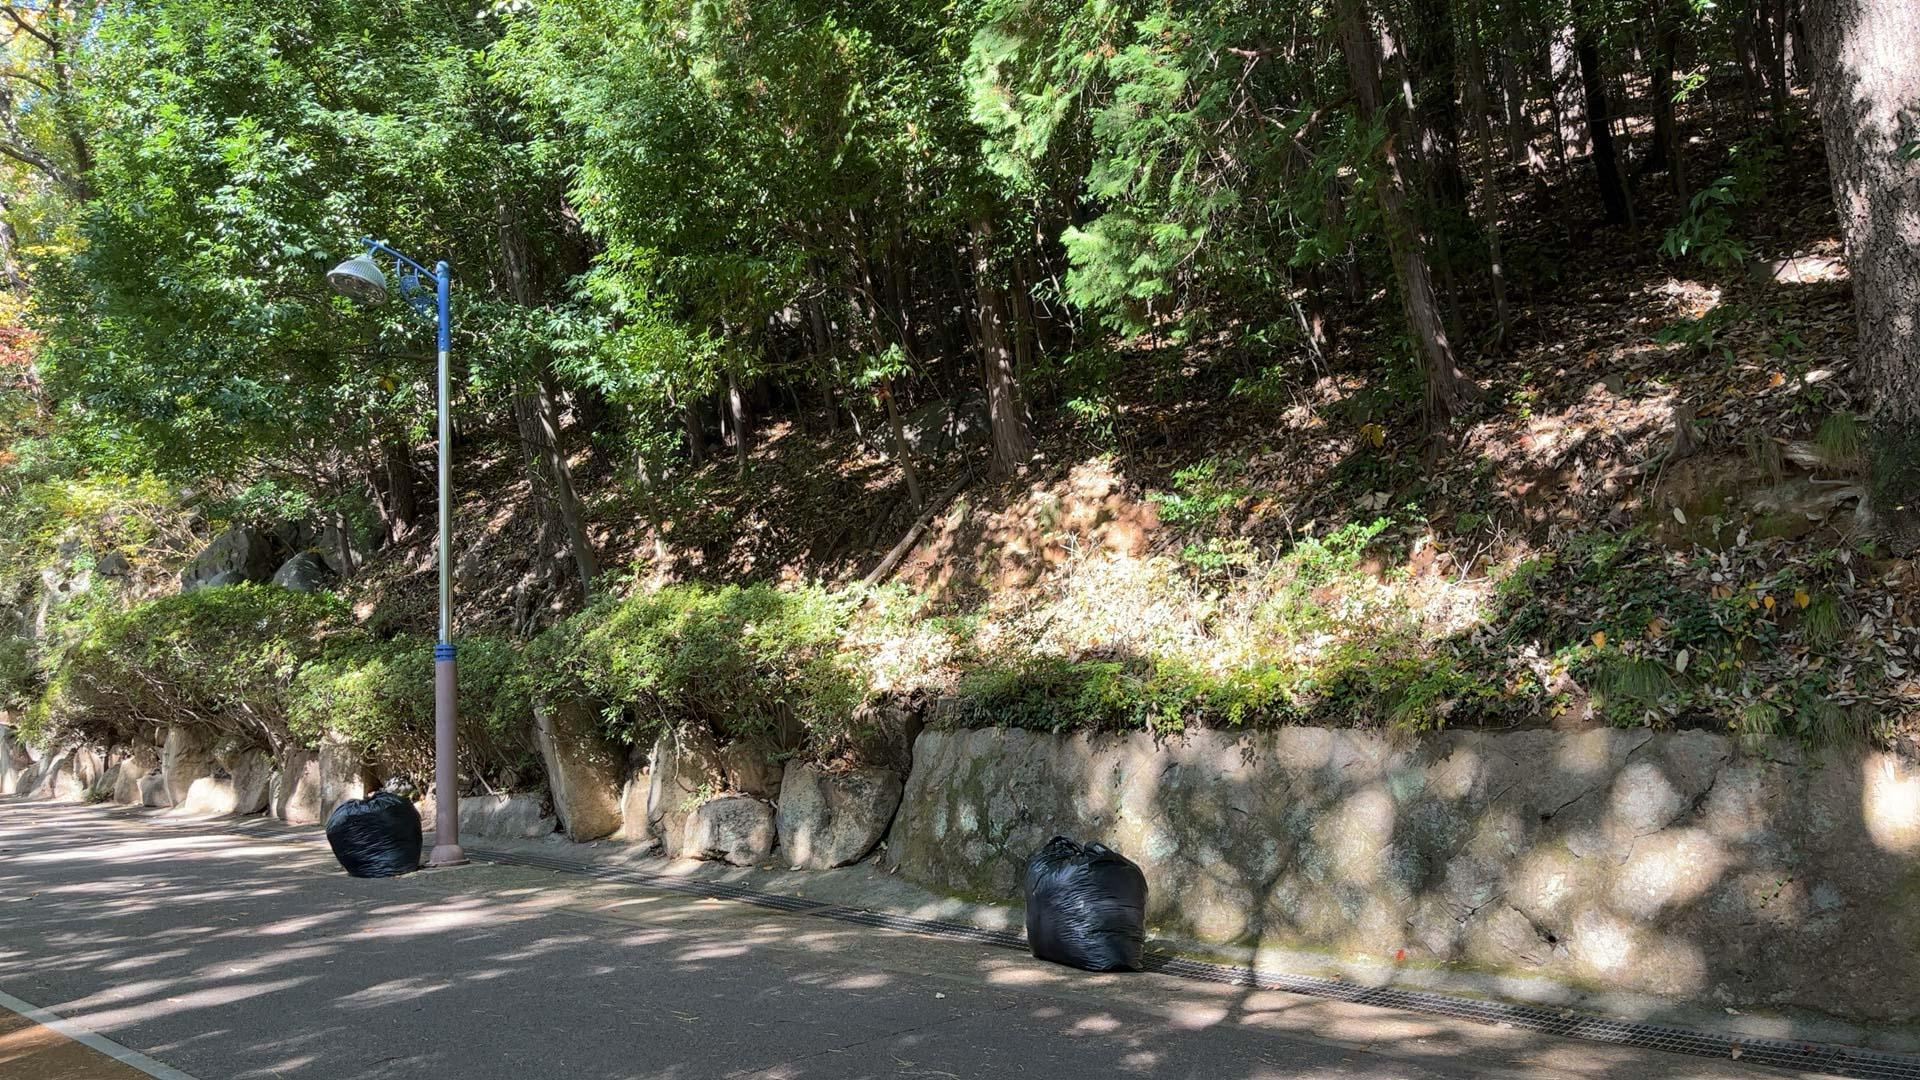black_bag: (1015, 825, 1160, 985), (311, 781, 430, 887)
